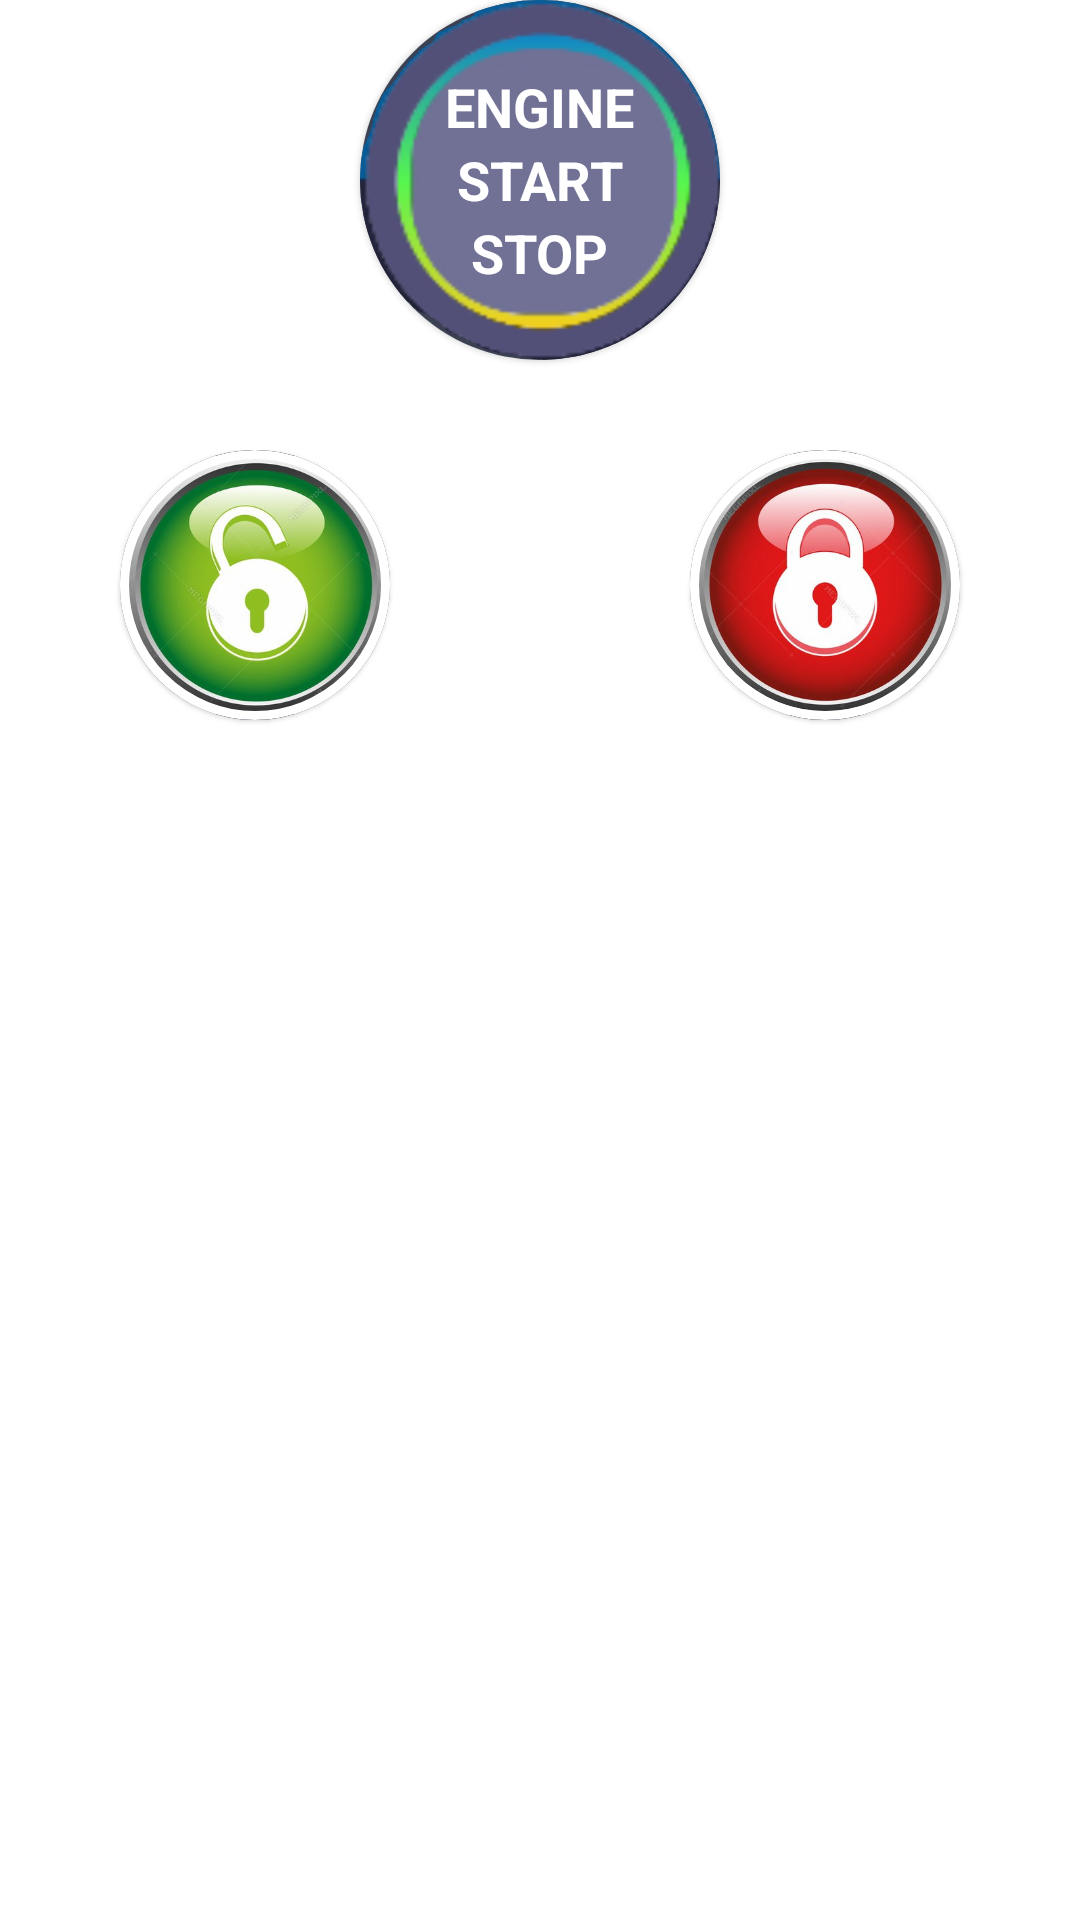

Locate icon controls on the screen. Image size 1080×1920, boxes as detection(x1, y1, x2, y2).
lock close: detection(690, 450, 960, 720)
lock open: detection(120, 450, 390, 720)
